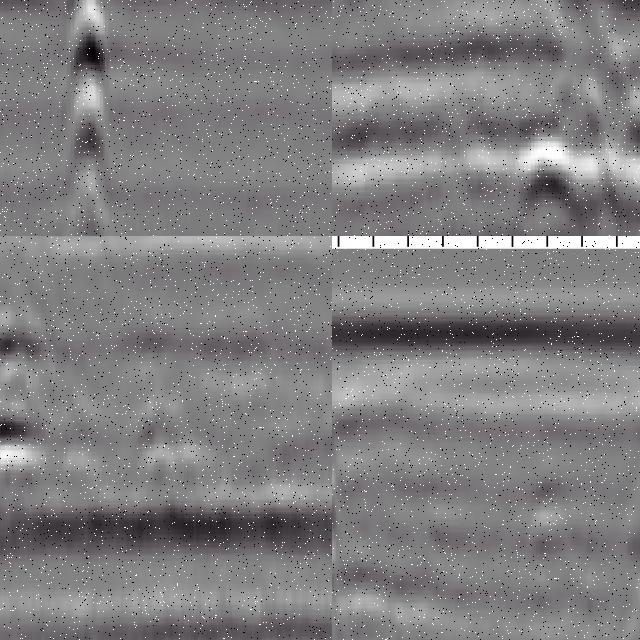crack: (71, 1, 102, 237), (333, 380, 360, 640)
loose: (515, 1, 640, 237), (1, 325, 100, 472)
